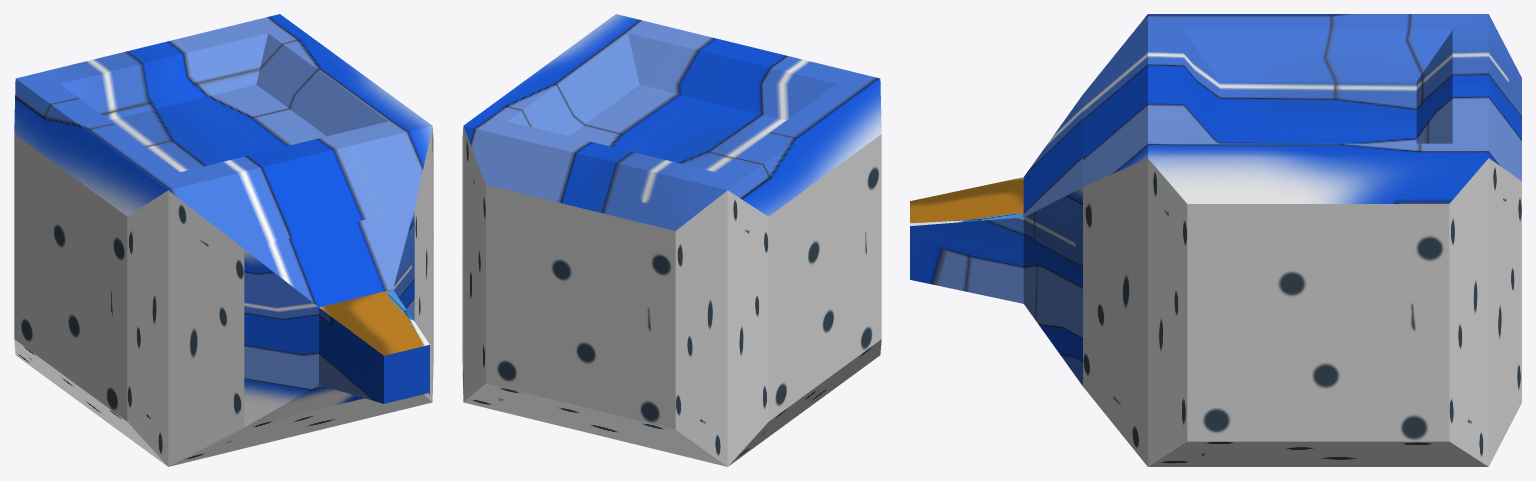
File: bossModelGun1.fbx
The picture shows the model from 3 angles, left to right: view 1: azimuth 30°, elevation 25°; view 2: azimuth 150°, elevation 25°; view 3: azimuth 270°, elevation 25°; orthographic projection. The views are drawn at different scales.
Visible parts, largest first — view 1: Cube.001; view 2: Cube.001; view 3: Cube.001.
Part boxes in pixels (bbox=[...]): Cube.001: bbox=[14, 14, 433, 466]; Cube.001: bbox=[462, 14, 881, 466]; Cube.001: bbox=[910, 14, 1521, 466].
Bounding box in the file's own units: 429 × 373 × 669.
Materials: 1 (1 with a texture image).
